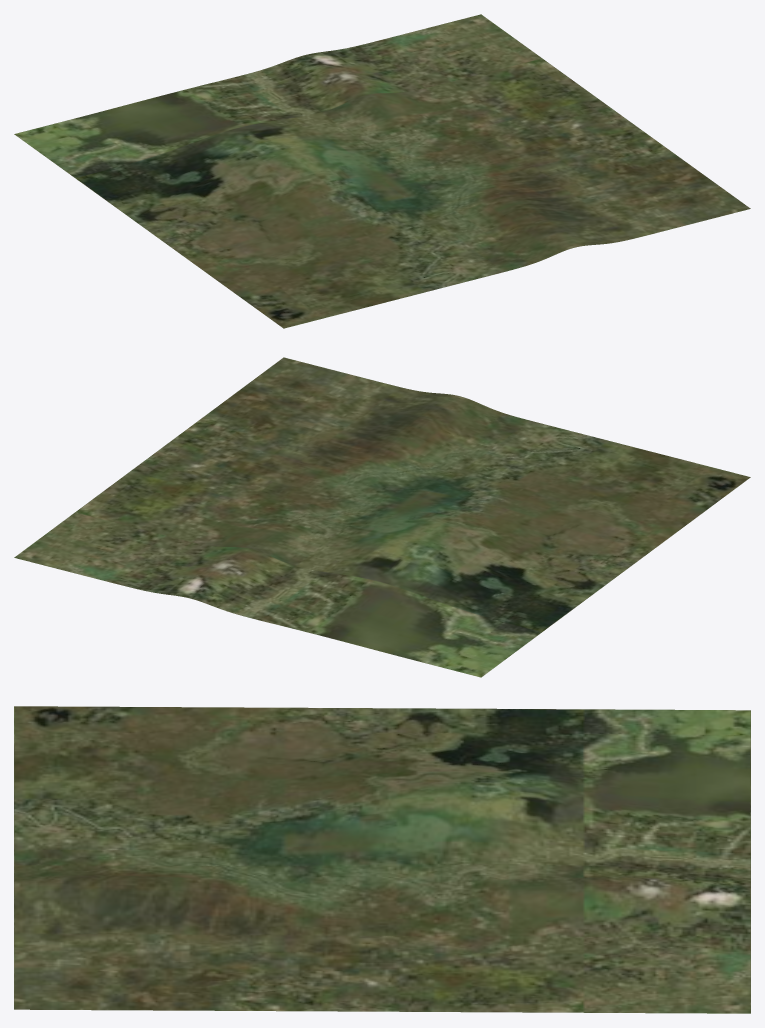
3 views of the same model, one above another, from view 1: azimuth 30°, elevation 25°; view 2: azimuth 150°, elevation 25°; view 3: azimuth 270°, elevation 25° (orthographic). The views are drawn at different scales.
Visible parts, largest first — view 1: geometry_0; view 2: geometry_0; view 3: geometry_0.
Boxes of the visible parts, left/top/right/bottom form: geometry_0: left=14, top=14, right=750, bottom=328; geometry_0: left=14, top=357, right=750, bottom=677; geometry_0: left=14, top=706, right=750, bottom=1013.
Bounding box in the file's own units: 10000 × 386 × 10000.
Materials: 1 (1 with a texture image).
